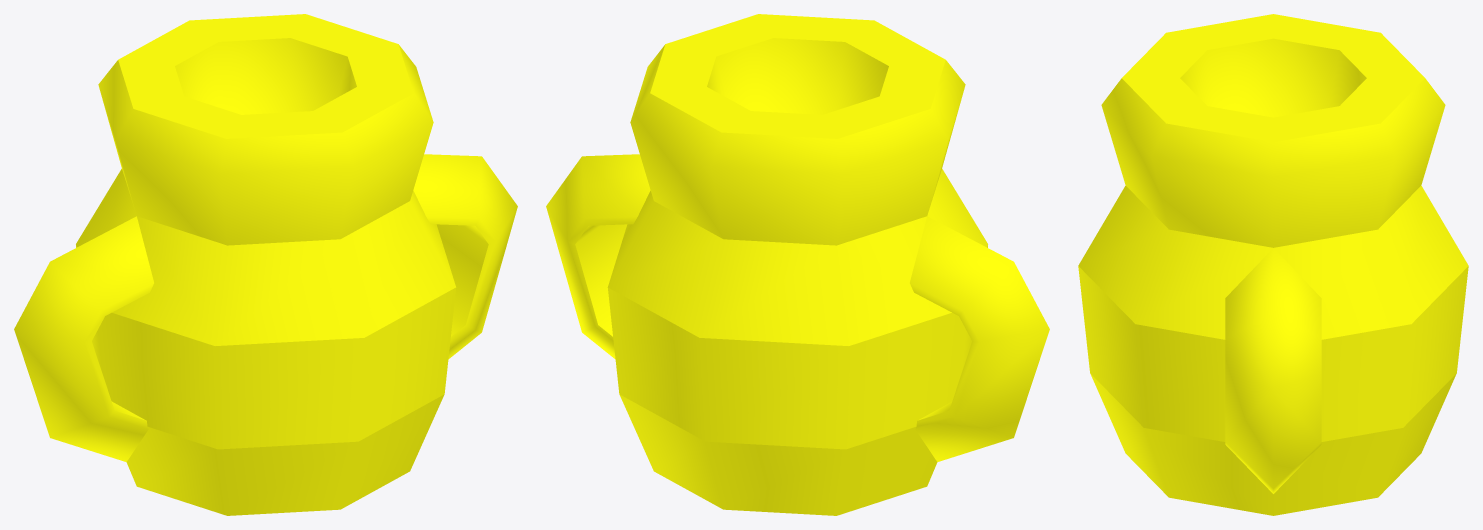
Rendered from 装饰道具_陶罐.glb.
3 views of the same model, side by side, from view 1: azimuth 30°, elevation 25°; view 2: azimuth 150°, elevation 25°; view 3: azimuth 270°, elevation 25° (orthographic).
Visible parts, largest first — view 1: pot; view 2: pot; view 3: pot.
Boxes of the visible parts, box(x1,y1,x2,y2) form: pot: box(14, 14, 517, 515); pot: box(546, 14, 1049, 515); pot: box(1078, 14, 1468, 515).
Size of the model in its own units: 0.5996 by 0.4305 by 0.4059.
1 material, 1 textured.
